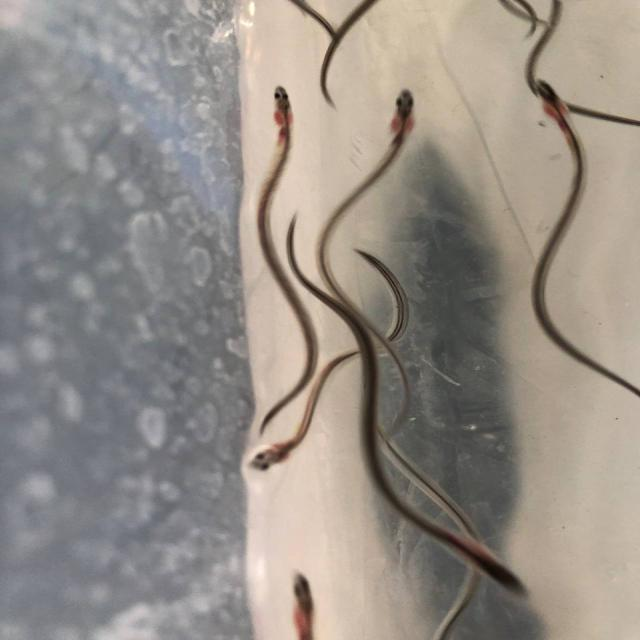glass_eel: (238, 423, 310, 483), (519, 74, 596, 130), (276, 567, 332, 640), (256, 76, 314, 137), (386, 82, 425, 146)
